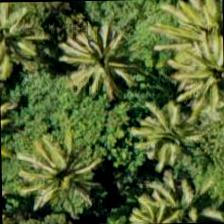Kelapa_Sawit: (54, 22, 146, 114), (126, 87, 218, 179), (20, 135, 113, 223), (170, 32, 223, 124), (162, 0, 223, 78), (0, 1, 53, 86), (142, 169, 223, 223)
